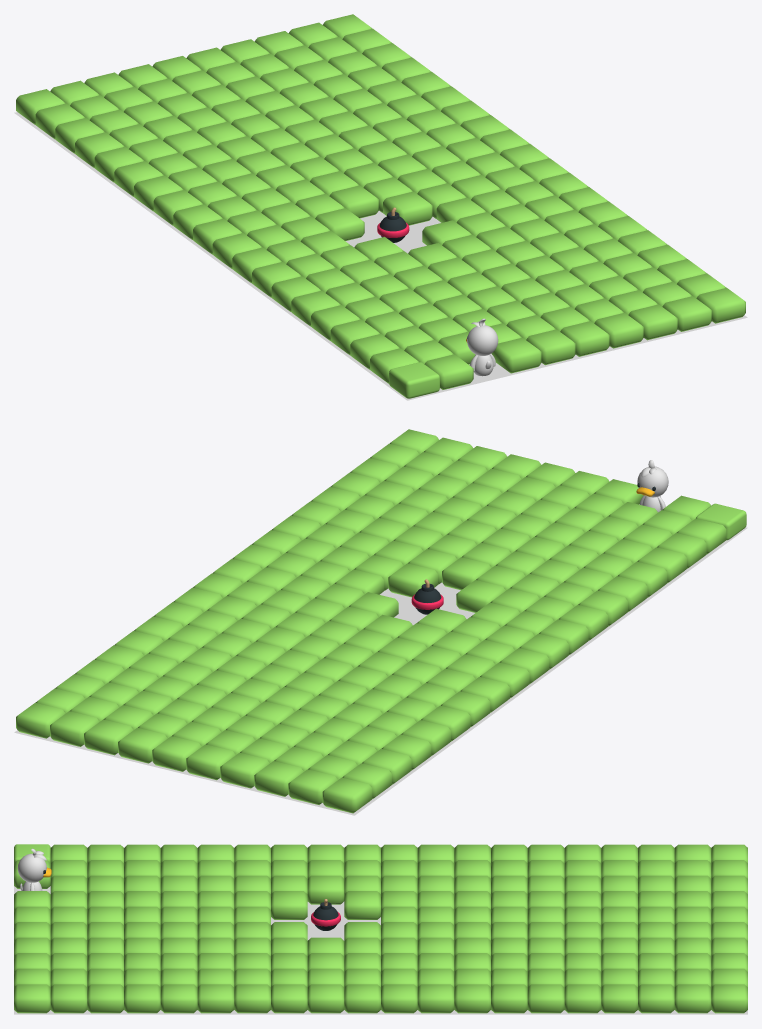
The model's file is rpg-mine.fbx.
3 views of the same model, one above another, from view 1: azimuth 30°, elevation 25°; view 2: azimuth 150°, elevation 25°; view 3: azimuth 270°, elevation 25° (orthographic). The views are drawn at different scales.
Visible parts, largest first — view 1: Plane, Cube, Cube.003, Cube.004, Cube.005, Cube.006, Cube.095, Cube.008, Cube.009, Cube.007, Cube.001, Cube.093 (+182 smaller); view 2: Plane, Cube.190, Cube.194, Cube.193, Cube.195, Cube.191, Cube.192, Cube.196, Cube.075, Cube.198, Cube.199, Cube.197 (+185 smaller); view 3: Plane, Cube.019, Cube.049, Cube.059, Cube.089, Cube.119, Cube.149, Cube.159, Cube.189, Cube.029, Cube.079, Cube.129 (+185 smaller).
Boxes of the visible parts, left/top/right/bottom form: Plane: left=14, top=112, right=747, bottom=400; Cube: left=389, top=362, right=439, bottom=398; Cube.003: left=492, top=337, right=541, bottom=373; Cube.004: left=526, top=329, right=575, bottom=365; Cube.005: left=560, top=321, right=609, bottom=356; Cube.006: left=594, top=312, right=643, bottom=348; Cube.095: left=383, top=191, right=432, bottom=225; Cube.008: left=662, top=296, right=711, bottom=331; Cube.009: left=696, top=287, right=745, bottom=323; Cube.007: left=628, top=304, right=677, bottom=340; Cube.001: left=424, top=354, right=473, bottom=389; Cube.093: left=315, top=208, right=364, bottom=240; Plane: left=14, top=504, right=747, bottom=815; Cube.190: left=322, top=777, right=372, bottom=813; Cube.194: left=186, top=744, right=235, bottom=780; Cube.193: left=220, top=752, right=269, bottom=788; Cube.195: left=152, top=736, right=201, bottom=771; Cube.191: left=288, top=769, right=337, bottom=804; Cube.192: left=254, top=761, right=303, bottom=796; Cube.196: left=118, top=727, right=167, bottom=763; Cube.075: left=388, top=563, right=437, bottom=597; Cube.198: left=50, top=711, right=99, bottom=746; Cube.199: left=16, top=702, right=65, bottom=738; Cube.197: left=84, top=719, right=133, bottom=755; Plane: left=14, top=886, right=747, bottom=1014; Cube.019: left=50, top=984, right=87, bottom=1013; Cube.049: left=160, top=984, right=197, bottom=1013; Cube.059: left=197, top=984, right=234, bottom=1013; Cube.089: left=307, top=984, right=344, bottom=1013; Cube.119: left=417, top=984, right=454, bottom=1013; Cube.149: left=527, top=984, right=564, bottom=1013; Cube.159: left=564, top=984, right=601, bottom=1013; Cube.189: left=674, top=984, right=711, bottom=1013; Cube.029: left=87, top=984, right=123, bottom=1013; Cube.079: left=271, top=984, right=307, bottom=1013; Cube.129: left=454, top=984, right=490, bottom=1013.
Bounding box in the file's own units: 10 × 1.53 × 20.
